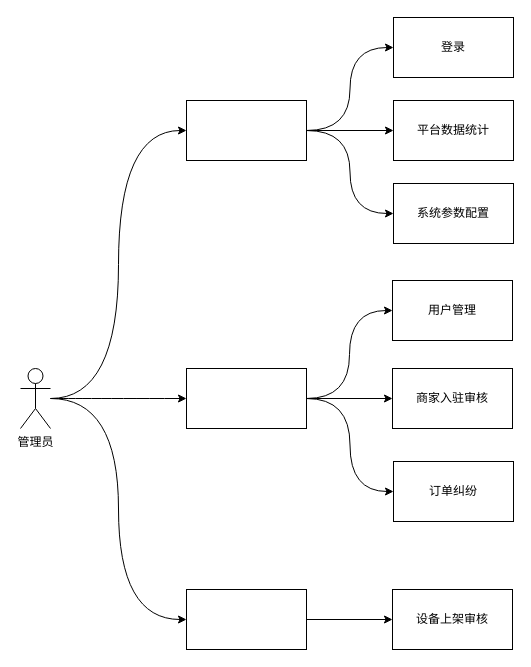
The diagram is 531 pixels wide and 667 high, and some of its shapes have lost their labels. Here are the shapes that lost their labels. From the top down, the centre of each, then its label:
At [246,130]: "系统管理".
At [246,398]: "账号管理".
At [246,619]: "设备管理".
